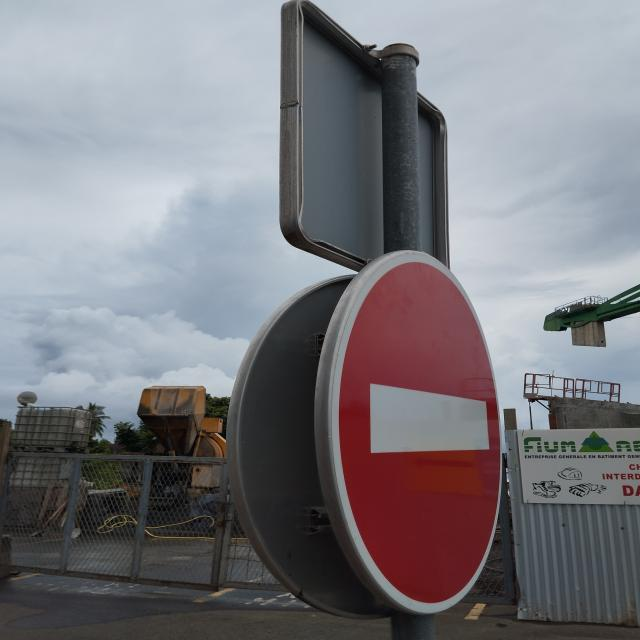Sens-Interdit: (317, 243, 506, 612)
